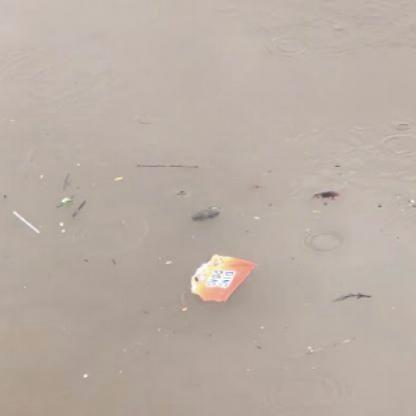Trash: (188, 250, 258, 306)
